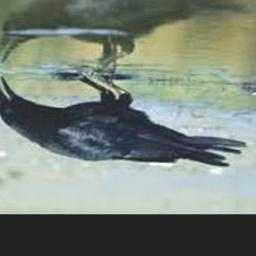Crow: (0, 72, 248, 169)
